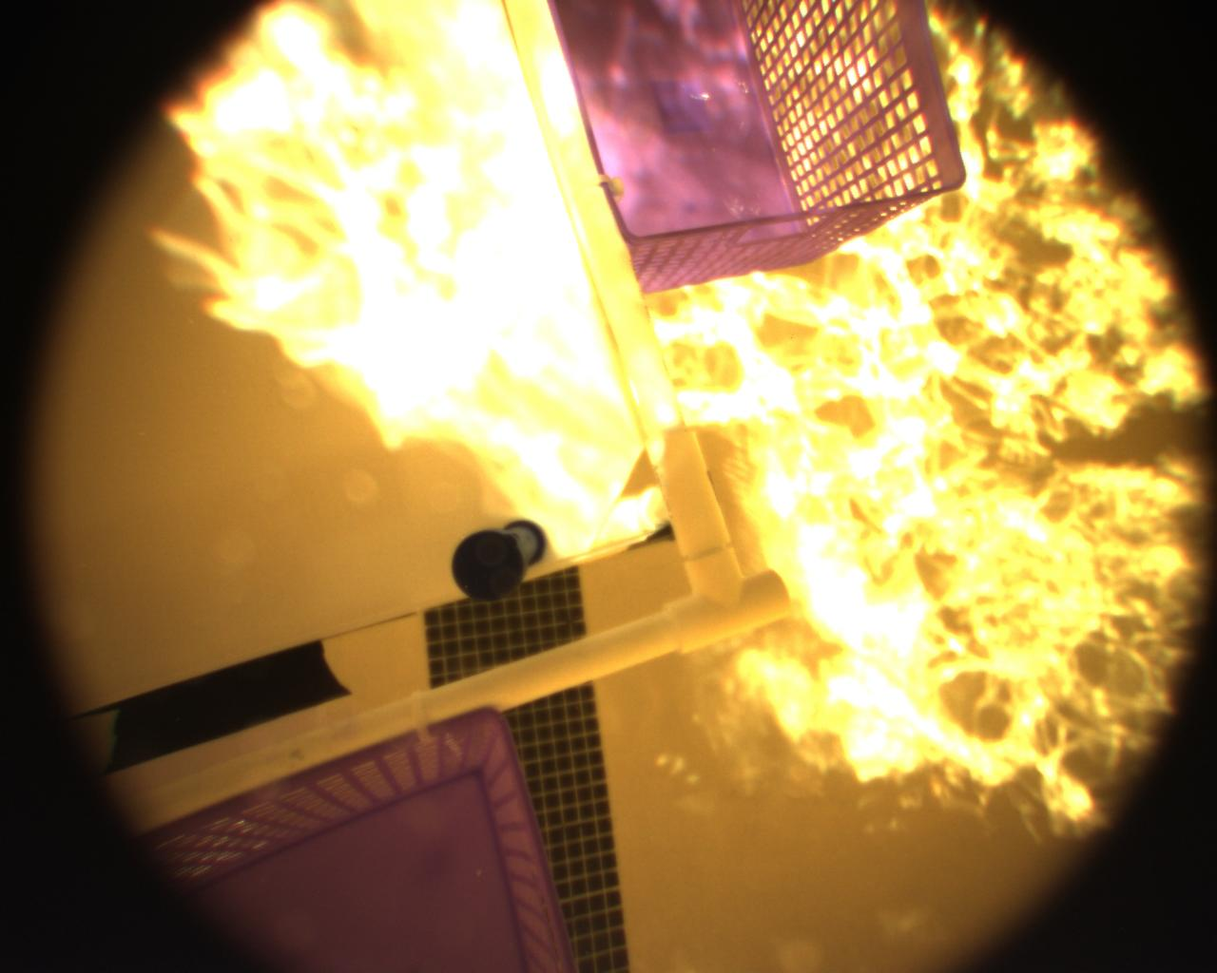coral: (425, 513, 554, 610)
coral-box-top: (0, 0, 723, 671)
